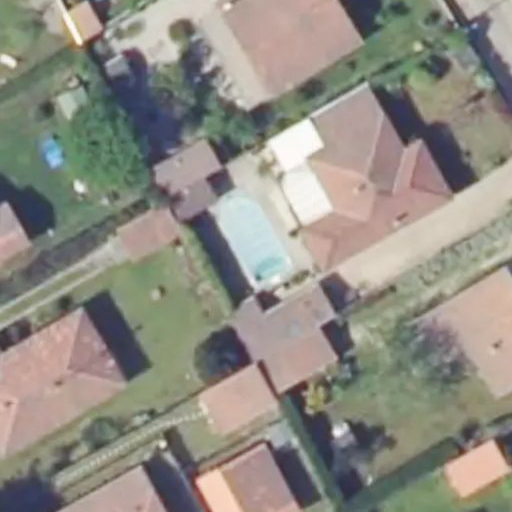pool: (208, 190, 297, 287)
